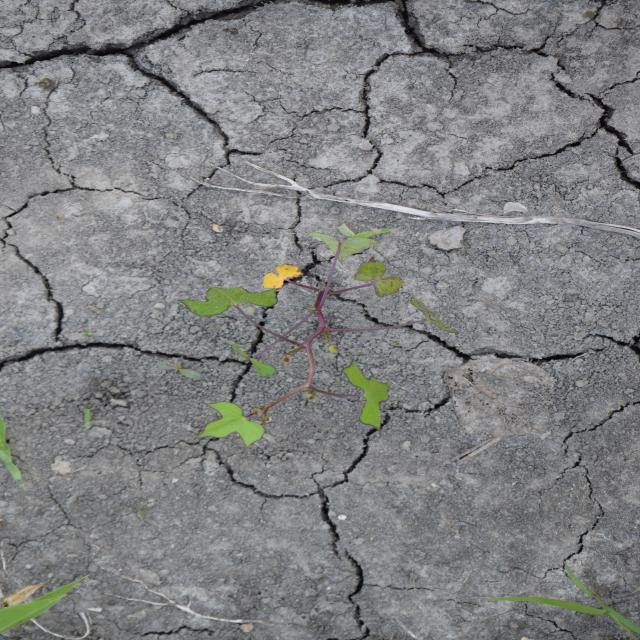MorningGlory: (174, 231, 462, 447)
